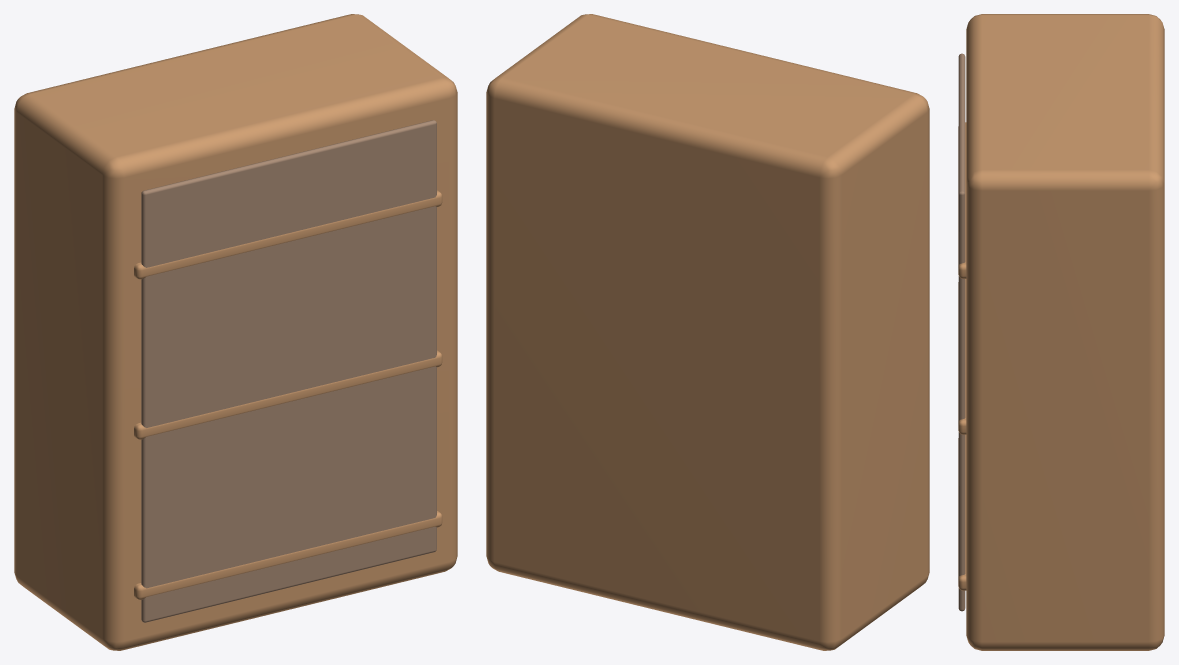
The model's file is japaneseClosetBase.glb.
3 renders of one model, left to right at view 1: azimuth 30°, elevation 25°; view 2: azimuth 150°, elevation 25°; view 3: azimuth 270°, elevation 25°, orthographic. The views are drawn at different scales.
Visible parts, largest first — view 1: Open interior, Cabinet, Inner shelf.001, Inner shelf.002, Inner shelf; view 2: Cabinet; view 3: Cabinet, Open interior, Inner shelf, Inner shelf.002, Inner shelf.001.
Part boxes in pixels (<box>): Open interior: <box>141,120,436,622</box>; Cabinet: <box>14,14,457,650</box>; Inner shelf.001: <box>134,350,442,439</box>; Inner shelf.002: <box>134,190,442,279</box>; Inner shelf: <box>134,511,442,599</box>; Cabinet: <box>486,14,929,650</box>; Cabinet: <box>966,14,1164,650</box>; Open interior: <box>958,53,965,611</box>; Inner shelf: <box>958,434,966,590</box>; Inner shelf.002: <box>958,122,966,278</box>; Inner shelf.001: <box>958,279,966,434</box>.
Size of the model in its own units: 1.5 by 2 by 0.78.
